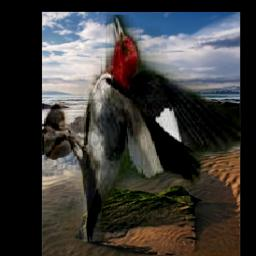Woodpecker: (45, 16, 242, 242)
